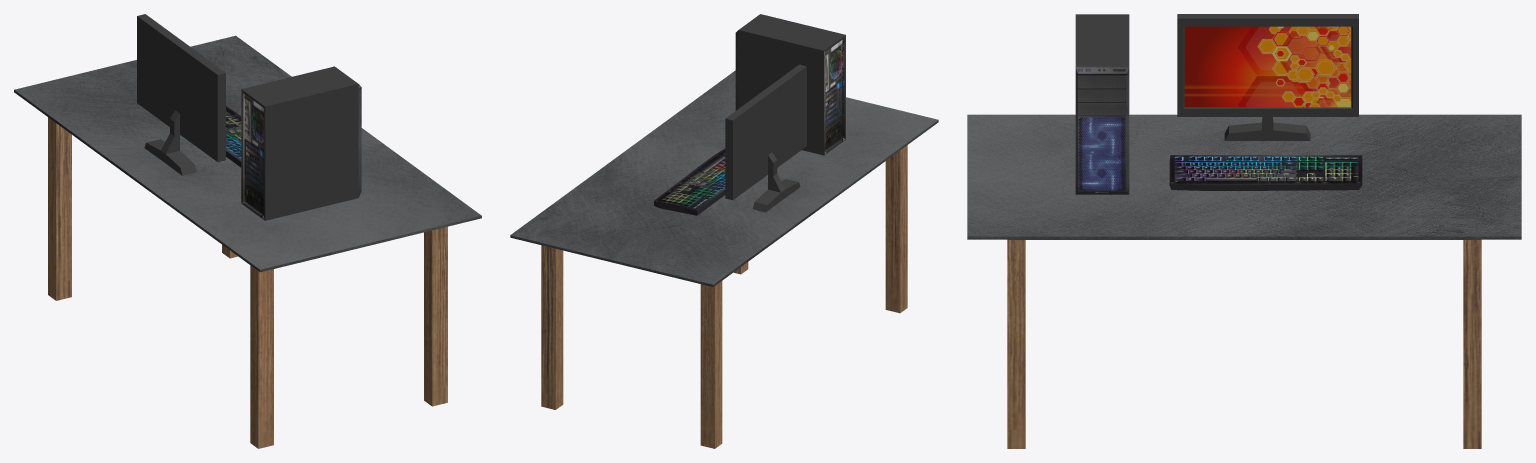
The model's file is desktop.glb.
3 views of the same model, side by side, from view 1: azimuth 30°, elevation 25°; view 2: azimuth 150°, elevation 25°; view 3: azimuth 270°, elevation 25° (orthographic). The views are drawn at different scales.
Visible parts, largest first — view 1: Table, Gab, Monitor, Keyboard; view 2: Table, Gab, Monitor, Keyboard; view 3: Table, Monitor, Gab, Keyboard.
Part boxes in pixels (<box>): Table: <box>14,35,481,448</box>; Gab: <box>241,66,361,220</box>; Monitor: <box>137,14,225,175</box>; Keyboard: <box>226,106,241,167</box>; Table: <box>510,70,938,448</box>; Gab: <box>735,14,845,155</box>; Monitor: <box>725,64,806,212</box>; Keyboard: <box>654,148,725,215</box>; Table: <box>967,114,1521,448</box>; Monitor: <box>1177,14,1358,140</box>; Gab: <box>1075,14,1129,194</box>; Keyboard: <box>1169,155,1362,190</box>.
Bounding box in the file's own units: 14.75 × 19.78 × 28.35.
Materials: 4 (4 with a texture image).
